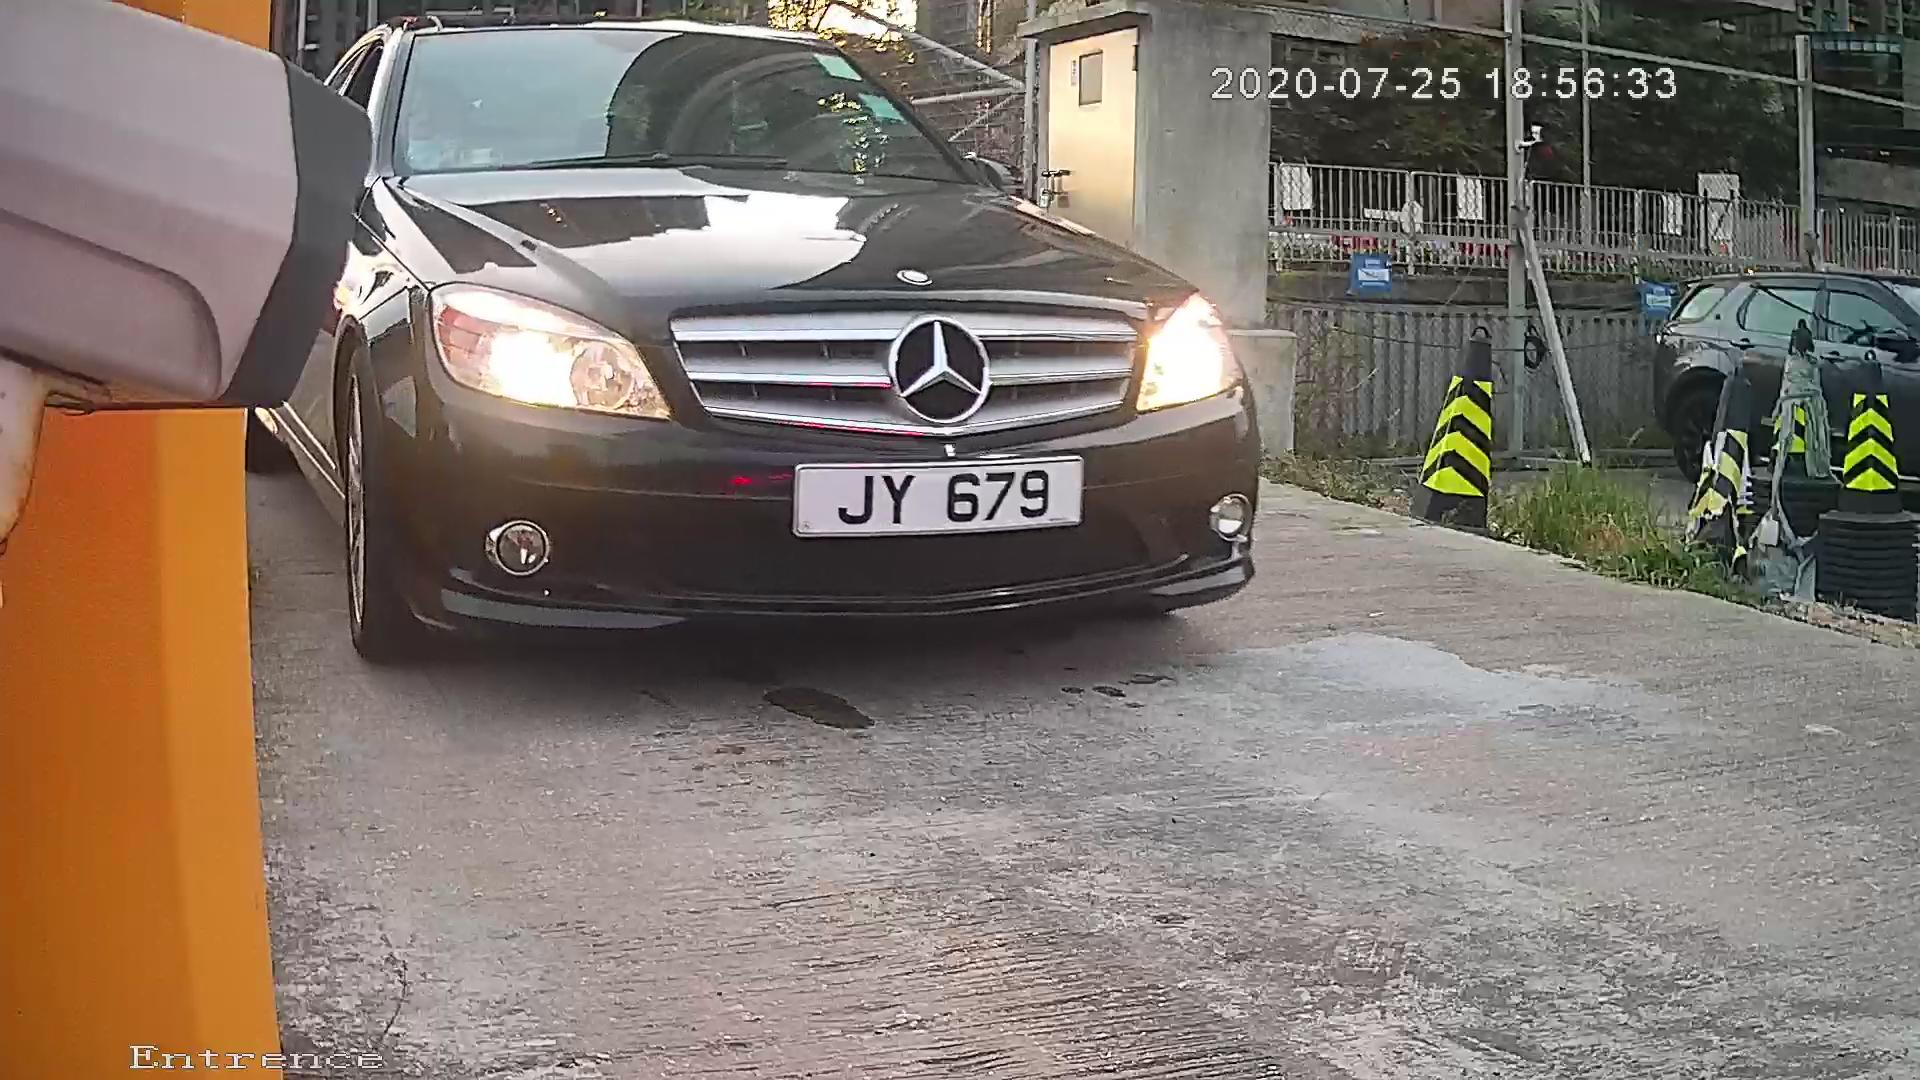License Plate: (772, 449, 1106, 545)
